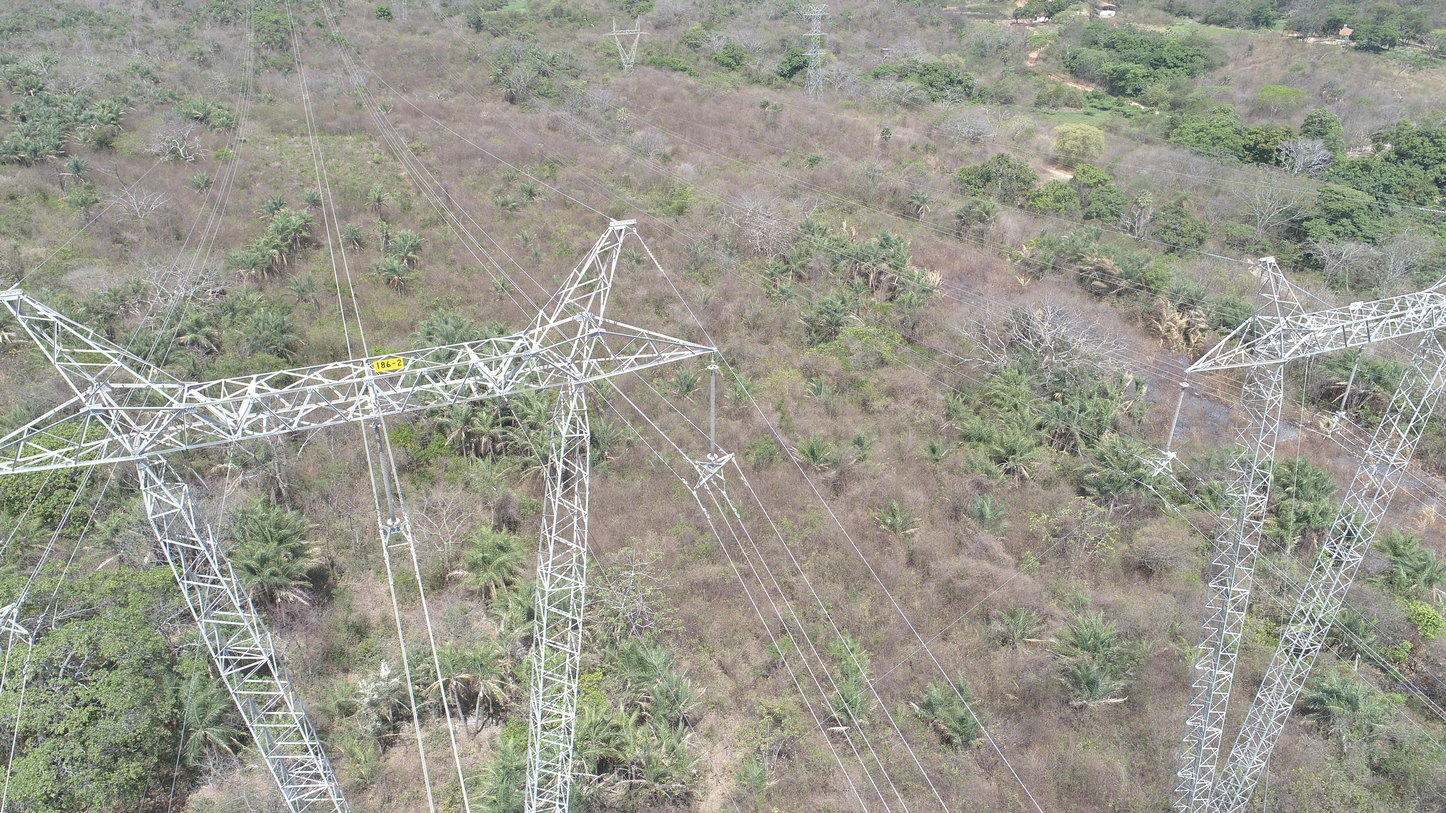power_tower: (0, 213, 747, 813), (1141, 251, 1446, 813), (799, 1, 836, 98), (604, 15, 654, 72)
